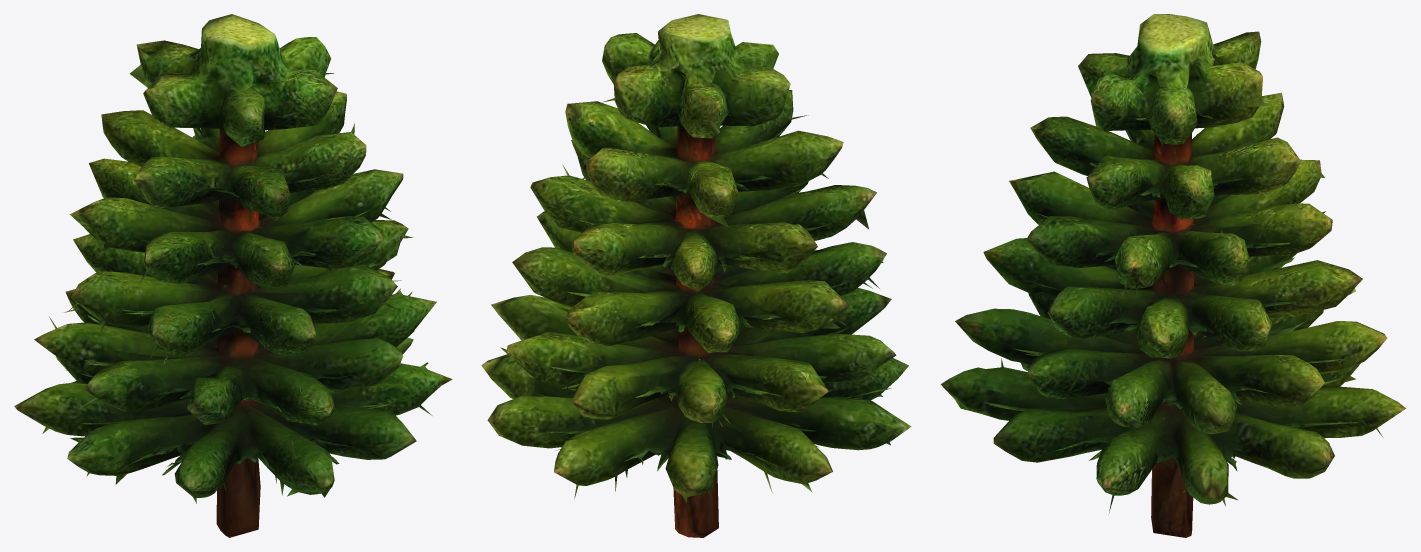
The model's file is pine-3.glb.
3 renders of one model, left to right at view 1: azimuth 30°, elevation 25°; view 2: azimuth 150°, elevation 25°; view 3: azimuth 270°, elevation 25°, orthographic.
Parts seen in each view (by area): view 1: tripo_node_f765921d-344a-4fb1-a6c3-dc500f5632ec; view 2: tripo_node_f765921d-344a-4fb1-a6c3-dc500f5632ec; view 3: tripo_node_f765921d-344a-4fb1-a6c3-dc500f5632ec.
Boxes of the visible parts, bbox=[...] form: tripo_node_f765921d-344a-4fb1-a6c3-dc500f5632ec: bbox=[14, 14, 452, 537]; tripo_node_f765921d-344a-4fb1-a6c3-dc500f5632ec: bbox=[481, 14, 911, 537]; tripo_node_f765921d-344a-4fb1-a6c3-dc500f5632ec: bbox=[940, 14, 1406, 537].
Size of the model in its own units: 0.8001 by 0.9992 by 0.829.
1 material, 1 textured.
